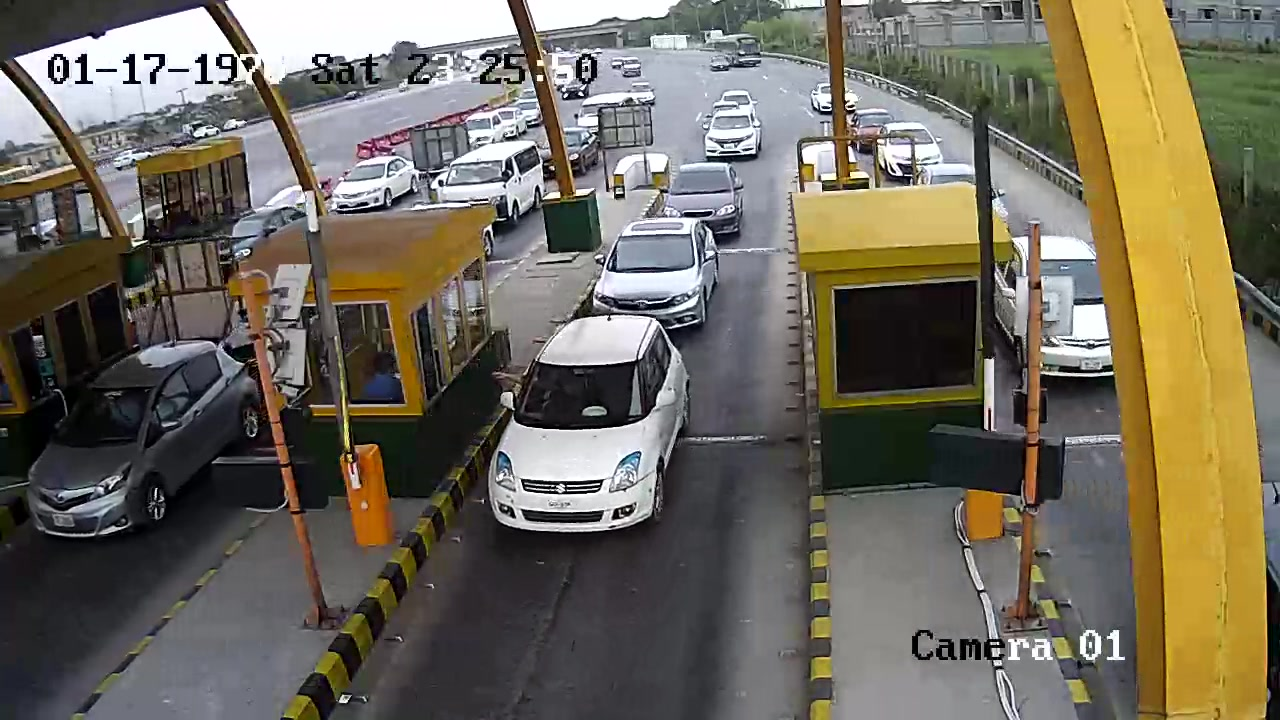F1: (483, 315, 698, 539)
